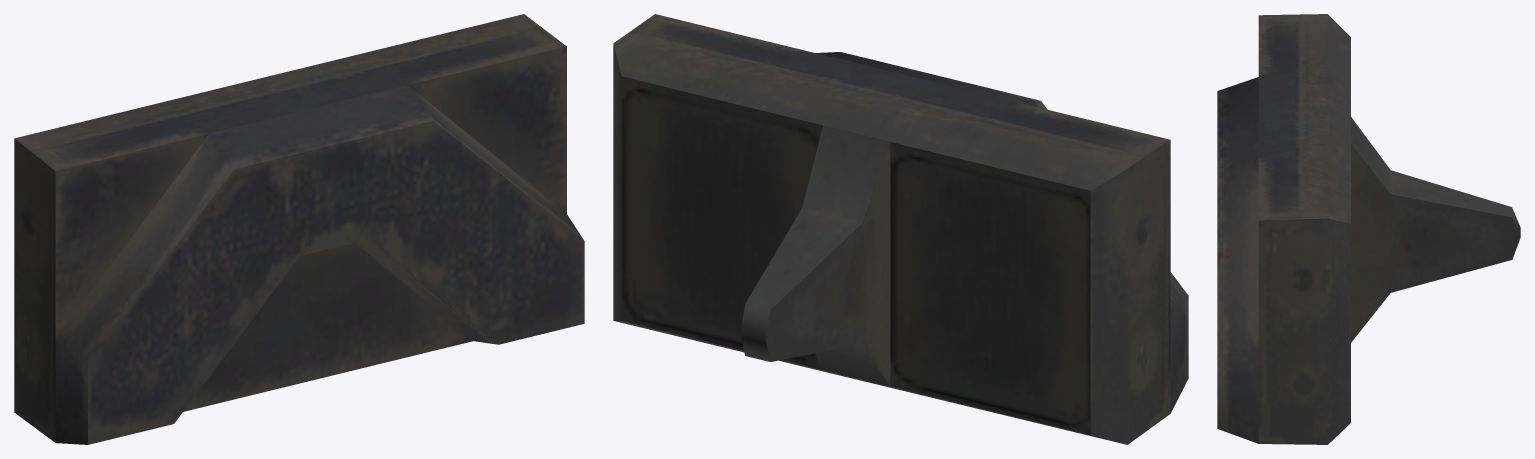
3 views of the same model, side by side, from view 1: azimuth 30°, elevation 25°; view 2: azimuth 150°, elevation 25°; view 3: azimuth 270°, elevation 25° (orthographic). The views are drawn at different scales.
Parts seen in each view (by area): view 1: set_0_group_0; view 2: set_0_group_0; view 3: set_0_group_0.
Part boxes in pixels (bbox=[...]): set_0_group_0: bbox=[14, 14, 584, 444]; set_0_group_0: bbox=[613, 14, 1188, 444]; set_0_group_0: bbox=[1217, 14, 1520, 444].
Bounding box in the file's own units: 0.2757 × 0.1419 × 0.1722.
1 material, 1 textured.
